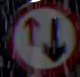Two way: (11, 0, 79, 76)
